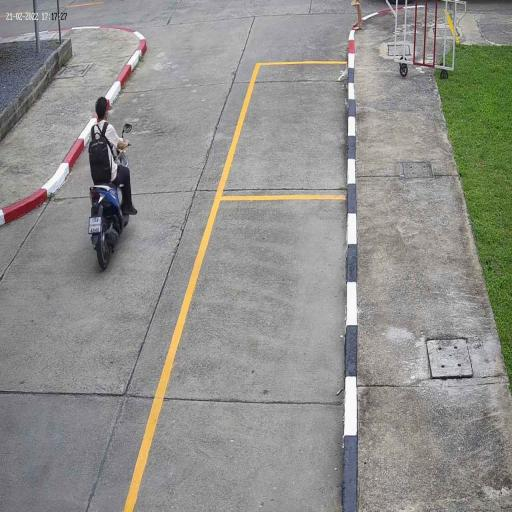motorcycle: (87, 182, 131, 276)
